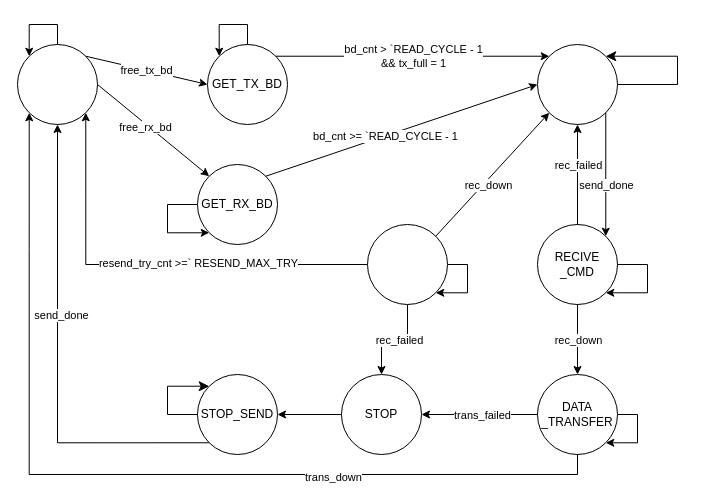
This 705x501 diagram has some shape labels left out. The shapes that lost their labels are listed below. From the top down, each one's centre as x and y in pixels, then its label:
the point at 57,84: IDLE
the point at 577,84: SEND_CMD
the point at 407,264: STOP _RECIVE _CDM
